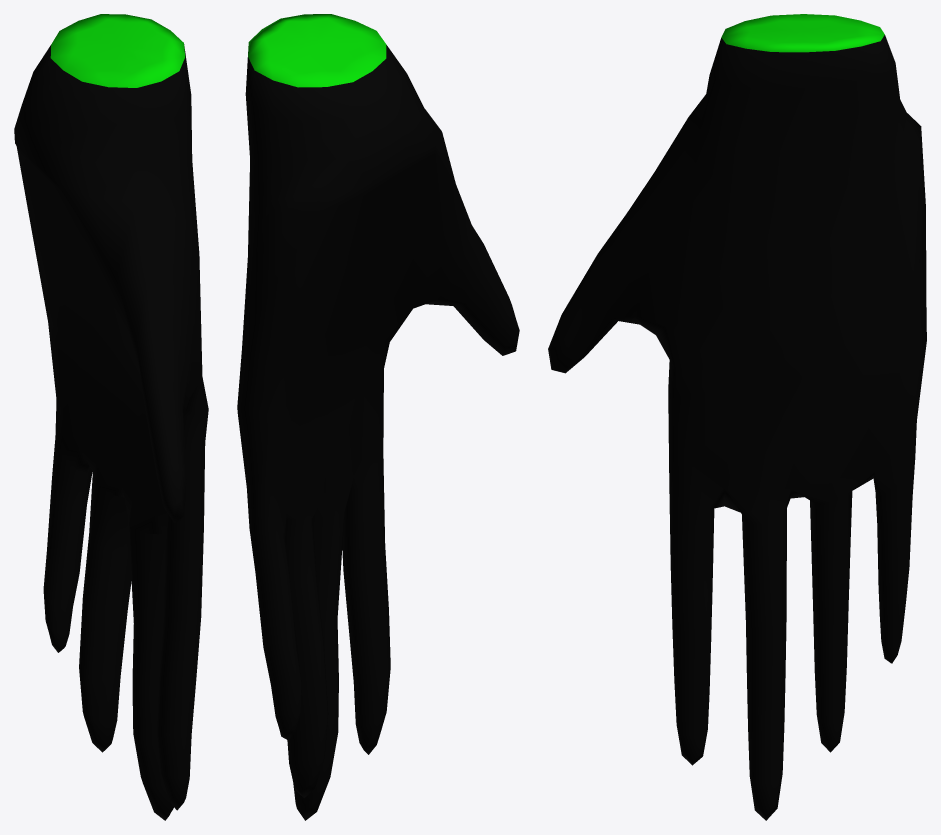
File: Hand2.fbx
3 renders of one model, left to right at view 1: azimuth 30°, elevation 25°; view 2: azimuth 150°, elevation 25°; view 3: azimuth 270°, elevation 25°, orthographic. The views are drawn at different scales.
Visible parts, largest first — view 1: Hand; view 2: Hand; view 3: Hand.
Boxes of the visible parts, x1,y1,x2,y2 form: Hand: [14, 14, 208, 820]; Hand: [237, 14, 519, 820]; Hand: [548, 14, 926, 820].
Bounding box in the file's own units: 0.1931 × 1.01 × 0.4426.
